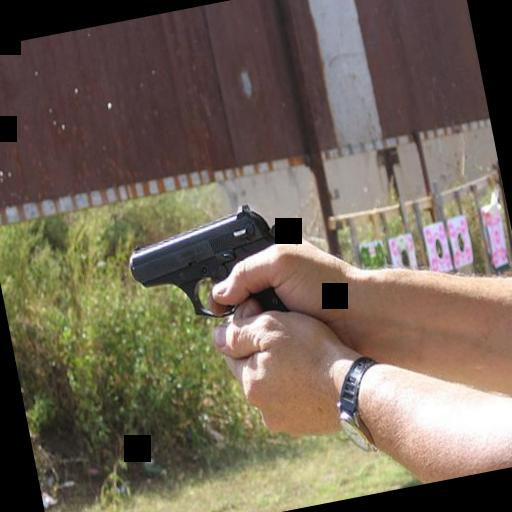Handgun: (121, 195, 309, 342)
